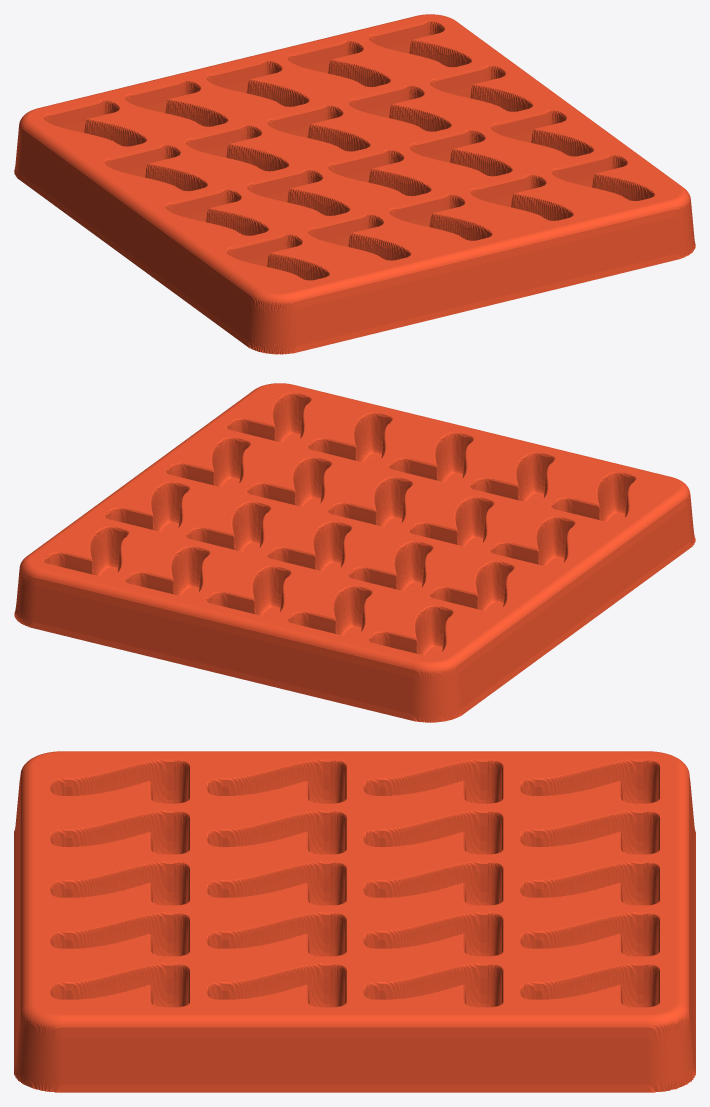
File: mold.glb
3 views of the same model, one above another, from view 1: azimuth 30°, elevation 25°; view 2: azimuth 150°, elevation 25°; view 3: azimuth 270°, elevation 25° (orthographic). The views are drawn at different scales.
Visible parts, largest first — view 1: geometry_0; view 2: geometry_0; view 3: geometry_0.
Part boxes in pixels (bbox=[...]): geometry_0: bbox=[14, 14, 695, 354]; geometry_0: bbox=[14, 383, 695, 722]; geometry_0: bbox=[14, 751, 695, 1092].
Bounding box in the file's own units: 0.1233 × 0.0145 × 0.1278.
